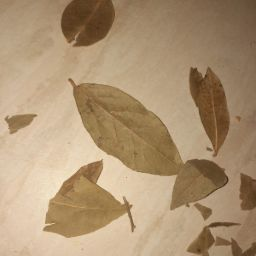Bay leaves: (6, 2, 256, 256), (53, 68, 187, 189), (28, 156, 140, 256), (161, 54, 247, 161), (153, 152, 233, 224), (171, 203, 256, 256), (48, 1, 124, 55), (215, 161, 256, 217), (1, 108, 47, 137)
